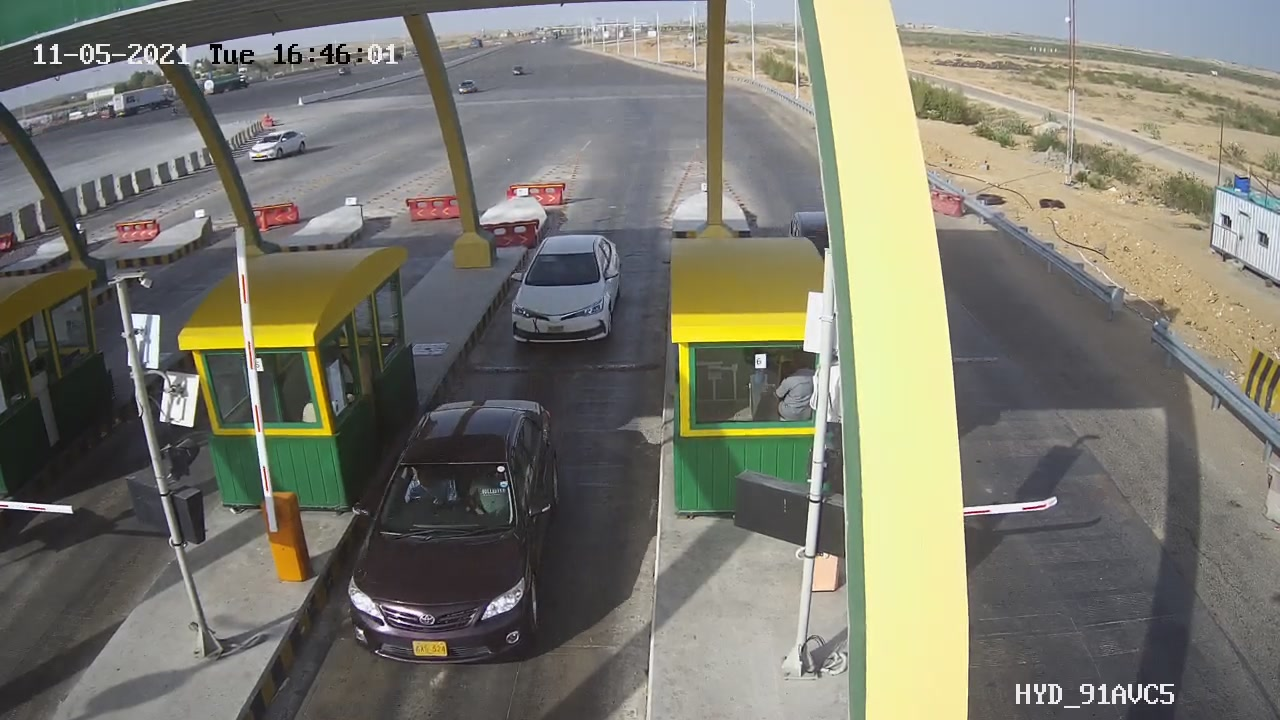F1: (488, 216, 641, 366)
